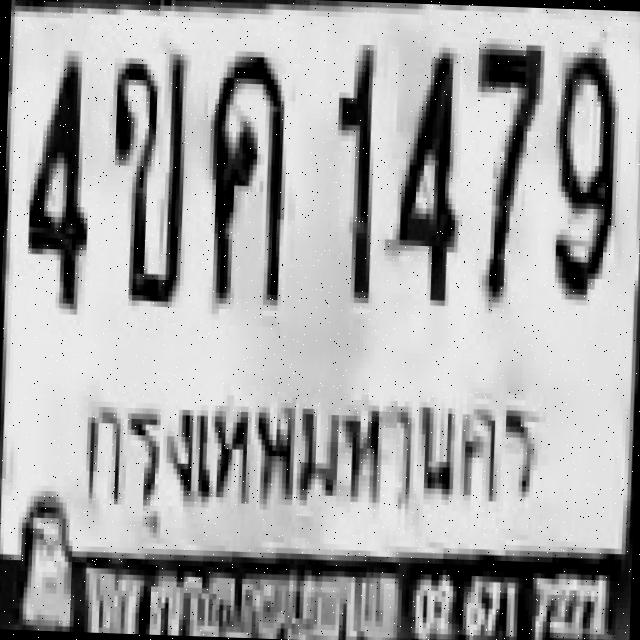1: (328, 44, 373, 298)
11KhorKhai: (102, 46, 188, 302)
13KhorKhwai: (198, 47, 288, 297)
4: (386, 42, 461, 298), (22, 46, 90, 306)
7: (466, 38, 540, 298)
9: (546, 46, 618, 296)
Bangkok: (67, 372, 545, 534)
